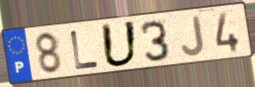3: (140, 18, 172, 63)
4: (214, 10, 242, 54)
8: (34, 31, 65, 76)
J: (179, 14, 206, 58)
L: (69, 28, 102, 71)
U: (99, 20, 140, 69)
